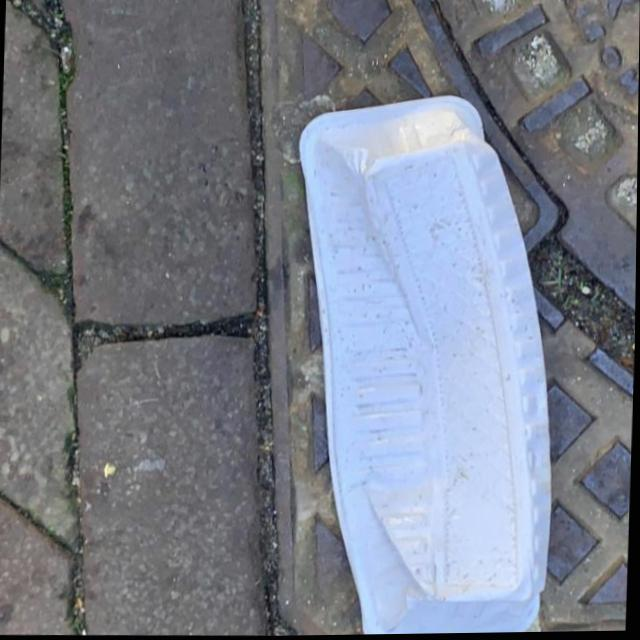Plastic: (281, 87, 570, 637)
